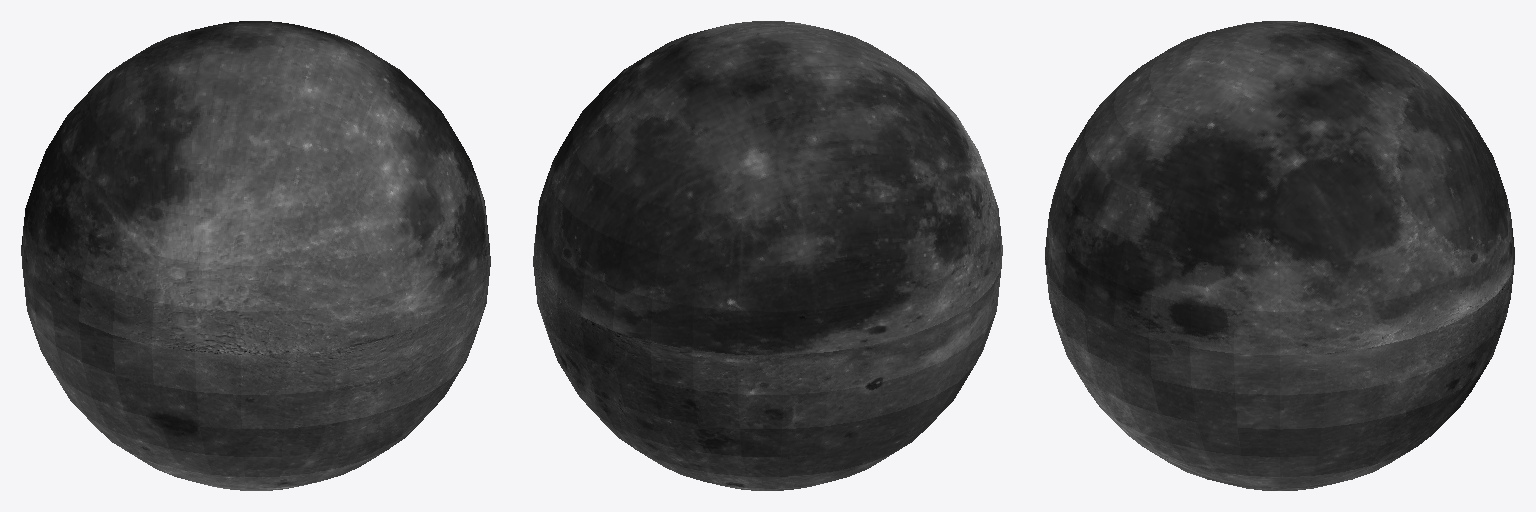
3 renders of one model, left to right at view 1: azimuth 30°, elevation 25°; view 2: azimuth 150°, elevation 25°; view 3: azimuth 270°, elevation 25°, orthographic.
Visible parts, largest first — view 1: Sphere; view 2: Sphere; view 3: Sphere.
Part boxes in pixels (bbox=[...]): Sphere: bbox=[21, 21, 490, 490]; Sphere: bbox=[533, 21, 1002, 490]; Sphere: bbox=[1045, 21, 1514, 490].
Bounding box in the file's own units: 2 × 2 × 2.
Materials: 1 (1 with a texture image).